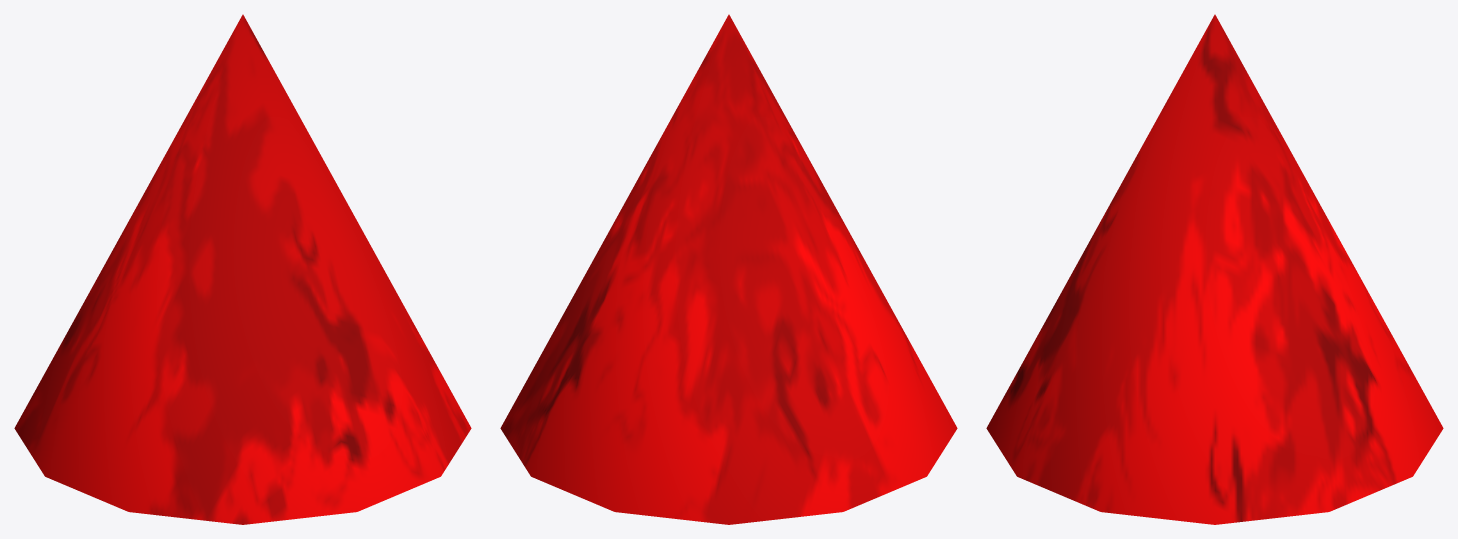
The model's file is PartyHat.fbx.
3 renders of one model, left to right at view 1: azimuth 30°, elevation 25°; view 2: azimuth 150°, elevation 25°; view 3: azimuth 270°, elevation 25°, orthographic.
Parts seen in each view (by area): view 1: PartyCone; view 2: PartyCone; view 3: PartyCone.
Boxes of the visible parts, x1,y1,x2,y2 form: PartyCone: (14, 14, 471, 524); PartyCone: (500, 14, 957, 524); PartyCone: (986, 14, 1443, 524).
Bounding box in the file's own units: 0.0744 × 0.0744 × 0.0744.
